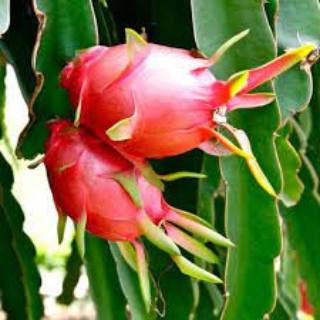thanh_long: (68, 42, 249, 160), (48, 116, 186, 254)
